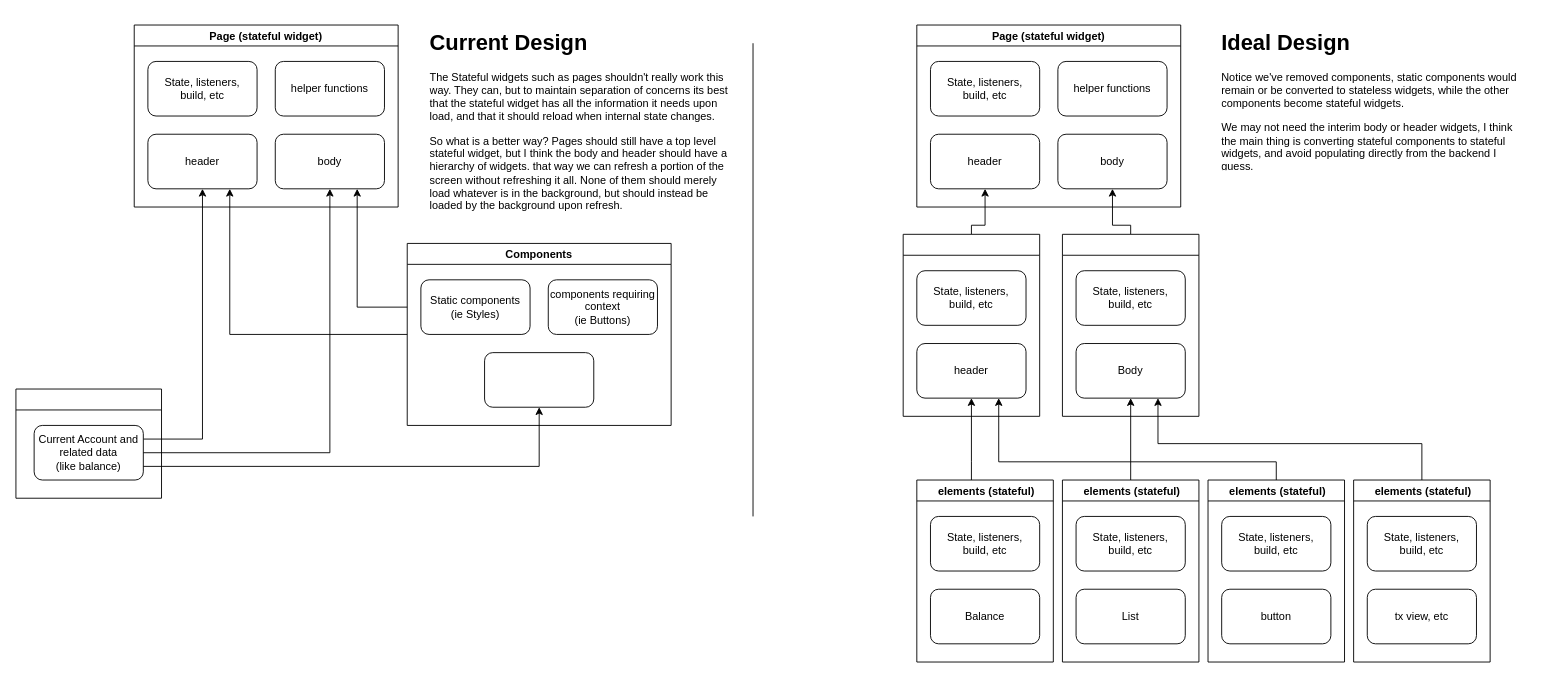
The diagram is 1542 pixels wide and 678 high, and some of its shapes have lost their labels. Each missing label, with the box of its shape:
Backend: (15, 388, 162, 498)
Body (stateful): (1062, 233, 1199, 416)
Components pulling from backend (lists of transactions): (484, 352, 594, 407)
Header (stateful): (902, 233, 1040, 416)
